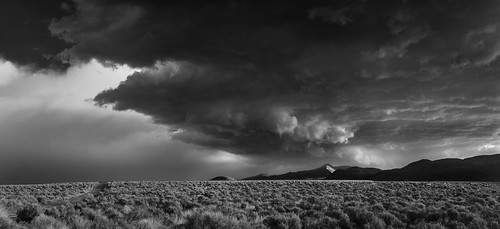grass: (6, 184, 500, 229)
sky: (1, 1, 500, 150)
